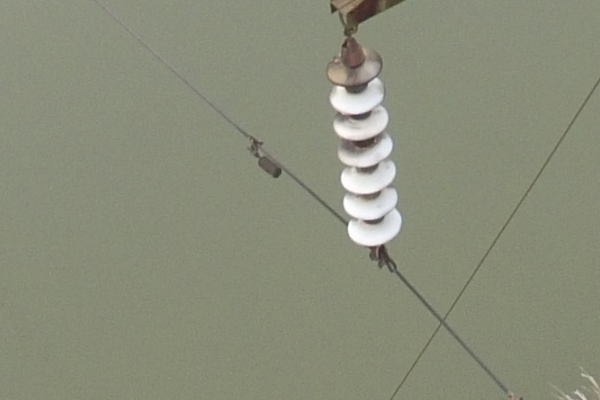damper_defect: (242, 132, 282, 178)
